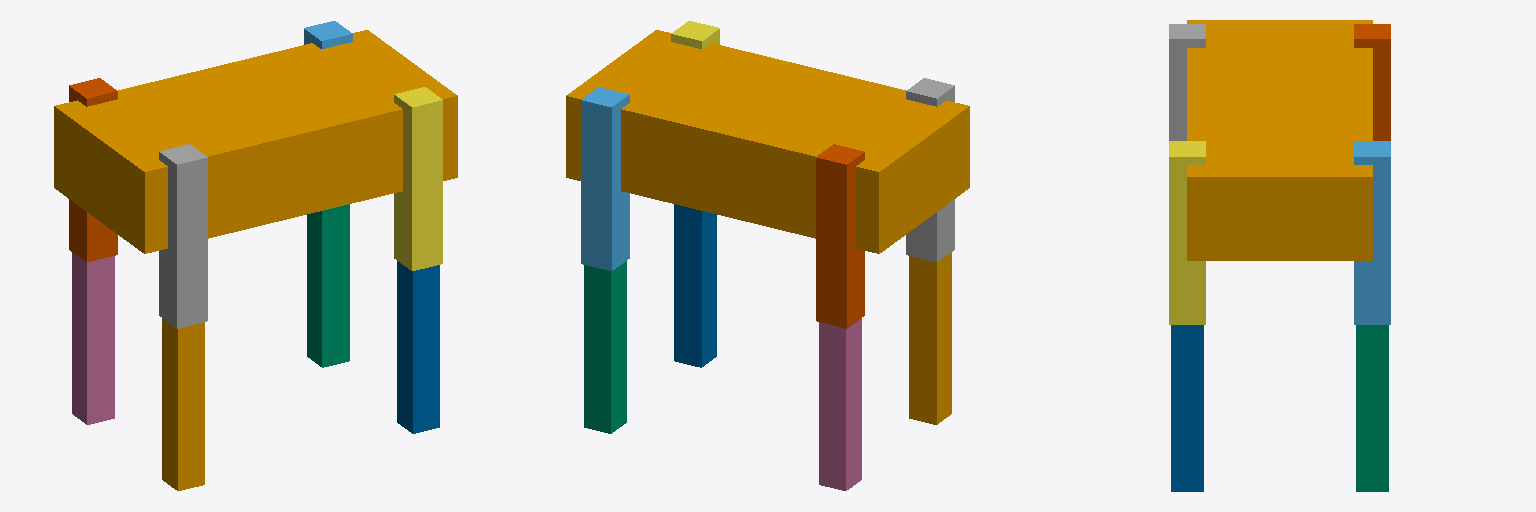
robot.urdf — synthetic_quadruped:
<?xml version='1.0' encoding='utf-8'?>
<robot name="synthetic_quadruped">
  <link name="torso">
    <inertial>
      <origin xyz="0 0 0" rpy="0 0 0" />
      <mass value="8" />
      <inertia ixx="0.03333333333333334" ixy="0" ixz="0" iyy="0.11333333333333336" iyz="0" izz="0.13333333333333336" />
    </inertial>
    <visual>
      <geometry>
        <box size="0.4 0.2 0.1" />
      </geometry>
    </visual>
    <collision>
      <geometry>
        <box size="0.4 0.2 0.1" />
      </geometry>
    </collision>
  </link>
  <link name="LF_upper">
    <inertial>
      <origin xyz="0 0 0" rpy="0 0 0" />
      <mass value="0.5" />
      <inertia ixx="0.0017333333333333335" ixy="0" ixz="0" iyy="0.0017333333333333335" iyz="0" izz="0.00013333333333333334" />
    </inertial>
    <visual>
      <geometry>
        <box size="0.04 0.04 0.2" />
      </geometry>
    </visual>
    <collision>
      <geometry>
        <box size="0.04 0.04 0.2" />
      </geometry>
    </collision>
  </link>
  <link name="LF_lower">
    <inertial>
      <origin xyz="0 0 0" rpy="0 0 0" />
      <mass value="0.3" />
      <inertia ixx="0.001030625" ixy="0" ixz="0" iyy="0.001030625" iyz="0" izz="6.125000000000001e-05" />
    </inertial>
    <visual>
      <geometry>
        <box size="0.035 0.035 0.2" />
      </geometry>
    </visual>
    <collision>
      <geometry>
        <box size="0.035 0.035 0.2" />
      </geometry>
    </collision>
  </link>
  <joint name="LF_hip" type="revolute">
    <parent link="torso" />
    <child link="LF_upper" />
    <origin xyz="0.15 0.1 -0.04" rpy="0 0 0" />
    <axis xyz="0 1 0" />
    <limit lower="-1" upper="1" effort="10" velocity="2" />
  </joint>
  <joint name="LF_knee" type="revolute">
    <parent link="LF_upper" />
    <child link="LF_lower" />
    <origin xyz="0 0 -0.2" rpy="0 0 0" />
    <axis xyz="0 0 1" />
    <limit lower="-1" upper="1" effort="10" velocity="2" />
  </joint>
  <link name="RF_upper">
    <inertial>
      <origin xyz="0 0 0" rpy="0 0 0" />
      <mass value="0.5" />
      <inertia ixx="0.0017333333333333335" ixy="0" ixz="0" iyy="0.0017333333333333335" iyz="0" izz="0.00013333333333333334" />
    </inertial>
    <visual>
      <geometry>
        <box size="0.04 0.04 0.2" />
      </geometry>
    </visual>
    <collision>
      <geometry>
        <box size="0.04 0.04 0.2" />
      </geometry>
    </collision>
  </link>
  <link name="RF_lower">
    <inertial>
      <origin xyz="0 0 0" rpy="0 0 0" />
      <mass value="0.3" />
      <inertia ixx="0.001030625" ixy="0" ixz="0" iyy="0.001030625" iyz="0" izz="6.125000000000001e-05" />
    </inertial>
    <visual>
      <geometry>
        <box size="0.035 0.035 0.2" />
      </geometry>
    </visual>
    <collision>
      <geometry>
        <box size="0.035 0.035 0.2" />
      </geometry>
    </collision>
  </link>
  <joint name="RF_hip" type="revolute">
    <parent link="torso" />
    <child link="RF_upper" />
    <origin xyz="0.15 -0.1 -0.04" rpy="0 0 0" />
    <axis xyz="0 1 0" />
    <limit lower="-1" upper="1" effort="10" velocity="2" />
  </joint>
  <joint name="RF_knee" type="revolute">
    <parent link="RF_upper" />
    <child link="RF_lower" />
    <origin xyz="0 0 -0.2" rpy="0 0 0" />
    <axis xyz="0 1 0" />
    <limit lower="-1" upper="1" effort="10" velocity="2" />
  </joint>
  <link name="LH_upper">
    <inertial>
      <origin xyz="0 0 0" rpy="0 0 0" />
      <mass value="0.5" />
      <inertia ixx="0.0017333333333333335" ixy="0" ixz="0" iyy="0.0017333333333333335" iyz="0" izz="0.00013333333333333334" />
    </inertial>
    <visual>
      <geometry>
        <box size="0.04 0.04 0.2" />
      </geometry>
    </visual>
    <collision>
      <geometry>
        <box size="0.04 0.04 0.2" />
      </geometry>
    </collision>
  </link>
  <link name="LH_lower">
    <inertial>
      <origin xyz="0 0 0" rpy="0 0 0" />
      <mass value="0.3" />
      <inertia ixx="0.001030625" ixy="0" ixz="0" iyy="0.001030625" iyz="0" izz="6.125000000000001e-05" />
    </inertial>
    <visual>
      <geometry>
        <box size="0.035 0.035 0.2" />
      </geometry>
    </visual>
    <collision>
      <geometry>
        <box size="0.035 0.035 0.2" />
      </geometry>
    </collision>
  </link>
  <joint name="LH_hip" type="revolute">
    <parent link="torso" />
    <child link="LH_upper" />
    <origin xyz="-0.15 0.1 -0.04" rpy="0 0 0" />
    <axis xyz="0 1 0" />
    <limit lower="-1" upper="1" effort="10" velocity="2" />
  </joint>
  <joint name="LH_knee" type="revolute">
    <parent link="LH_upper" />
    <child link="LH_lower" />
    <origin xyz="0 0 -0.2" rpy="0 0 0" />
    <axis xyz="0 1 0" />
    <limit lower="-1" upper="1" effort="10" velocity="2" />
  </joint>
  <link name="RH_upper">
    <inertial>
      <origin xyz="0 0 0" rpy="0 0 0" />
      <mass value="0.5" />
      <inertia ixx="0.0017333333333333335" ixy="0" ixz="0" iyy="0.0017333333333333335" iyz="0" izz="0.00013333333333333334" />
    </inertial>
    <visual>
      <geometry>
        <box size="0.04 0.04 0.2" />
      </geometry>
    </visual>
    <collision>
      <geometry>
        <box size="0.04 0.04 0.2" />
      </geometry>
    </collision>
  </link>
  <link name="RH_lower">
    <inertial>
      <origin xyz="0 0 0" rpy="0 0 0" />
      <mass value="0.3" />
      <inertia ixx="0.001030625" ixy="0" ixz="0" iyy="0.001030625" iyz="0" izz="6.125000000000001e-05" />
    </inertial>
    <visual>
      <geometry>
        <box size="0.035 0.035 0.2" />
      </geometry>
    </visual>
    <collision>
      <geometry>
        <box size="0.035 0.035 0.2" />
      </geometry>
    </collision>
  </link>
  <joint name="RH_hip" type="revolute">
    <parent link="torso" />
    <child link="RH_upper" />
    <origin xyz="-0.15 -0.1 -0.04" rpy="0 0 0" />
    <axis xyz="0 1 0" />
    <limit lower="-1" upper="1" effort="10" velocity="2" />
  </joint>
  <joint name="RH_knee" type="revolute">
    <parent link="RH_upper" />
    <child link="RH_lower" />
    <origin xyz="0 0 -0.2" rpy="0 0 0" />
    <axis xyz="0 1 0" />
    <limit lower="-1" upper="1" effort="10" velocity="2" />
  </joint>
</robot>

--- What the picture shows (computed from the rendered views, not written in the file) ---
Views: 3 orthographic renders of the robot side by side, from view 1: azimuth 30°, elevation 25°; view 2: azimuth 150°, elevation 25°; view 3: azimuth 270°, elevation 25°.
Robot: synthetic_quadruped — 9 links, 8 joints (8 revolute); root link torso; default pose: all joints at 0.
Links seen in each view (by area): view 1: torso, RF_upper, RH_upper, RF_lower, LH_lower, RH_lower, LF_lower, LH_upper, LF_upper; view 2: torso, LF_upper, LH_upper, LF_lower, RH_lower, LH_lower, RF_lower, RH_upper, RF_upper; view 3: torso, LF_lower, RF_lower, LF_upper, RF_upper, LH_upper, RH_upper.
Boxes of the visible links, box(x1,y1,x2,y2) form: torso: box(54, 30, 457, 253); RF_upper: box(394, 87, 442, 270); RH_upper: box(159, 144, 207, 328); RF_lower: box(397, 261, 439, 433); LH_lower: box(72, 252, 114, 424); RH_lower: box(162, 318, 204, 490); LF_lower: box(307, 204, 349, 367); LH_upper: box(69, 78, 117, 262); LF_upper: box(304, 21, 352, 48); torso: box(566, 30, 969, 253); LF_upper: box(581, 87, 629, 270); LH_upper: box(816, 144, 864, 328); LF_lower: box(584, 261, 626, 433); RH_lower: box(909, 252, 951, 424); LH_lower: box(819, 318, 861, 490); RF_lower: box(674, 204, 716, 367); RH_upper: box(906, 78, 954, 262); RF_upper: box(671, 21, 719, 48); torso: box(1187, 20, 1372, 260); LF_lower: box(1356, 325, 1388, 491); RF_lower: box(1171, 325, 1203, 491); LF_upper: box(1354, 141, 1390, 324); RF_upper: box(1169, 141, 1205, 324); LH_upper: box(1354, 24, 1390, 140); RH_upper: box(1169, 24, 1205, 140).
Bounding box of the posed robot: 0.4 × 0.24 × 0.4 m (x, y, z).
Geometry: primitives only (box / cylinder / sphere), no mesh files.
